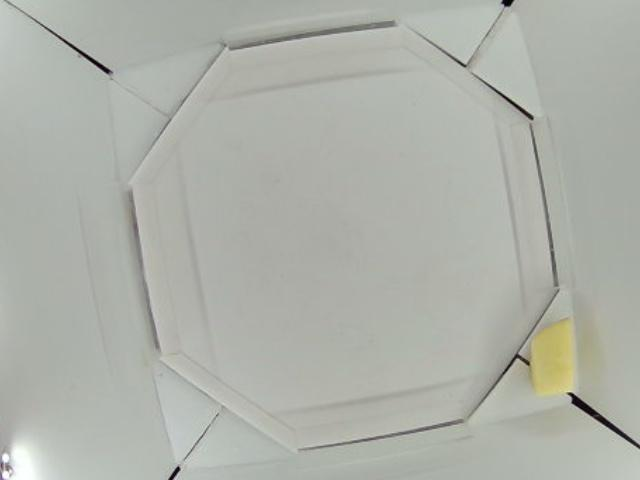Potato: (526, 316, 575, 397)
